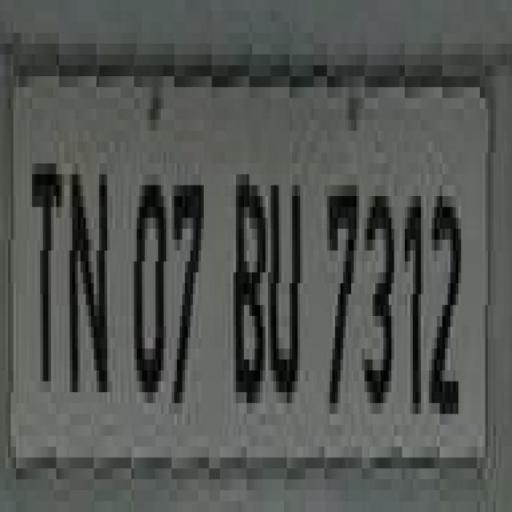number plate: (0, 33, 494, 490)
